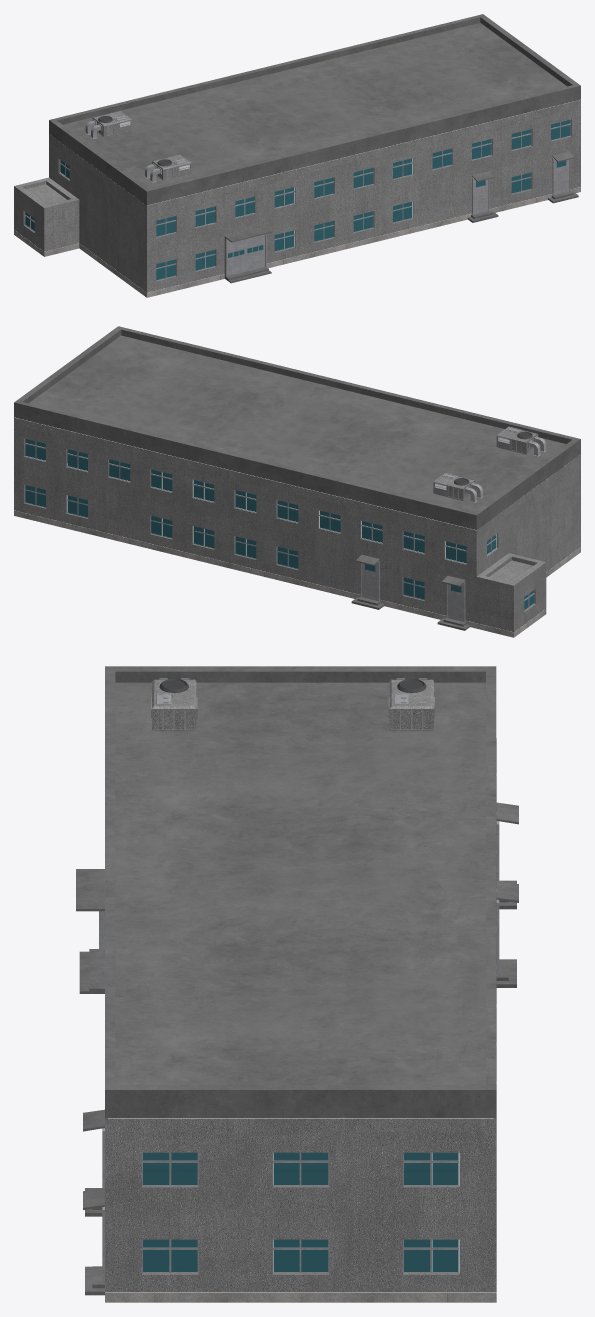
File: 消石灰制备间.glb
3 views of the same model, one above another, from view 1: azimuth 30°, elevation 25°; view 2: azimuth 150°, elevation 25°; view 3: azimuth 270°, elevation 25° (orthographic). The views are drawn at different scales.
Parts seen in each view (by area): view 1: 消石灰制备间05, 消石灰制备间00, 消石灰制备间04, 消石灰制备间06, 消石灰制备间02; view 2: 消石灰制备间05, 消石灰制备间00, 消石灰制备间04, 消石灰制备间06, 消石灰制备间02; view 3: 消石灰制备间05, 消石灰制备间00, 消石灰制备间04, 消石灰制备间06, 消石灰制备间02.
Boxes of the visible parts, x1,y1,x2,y2 form: 消石灰制备间05: [49, 14, 580, 283]; 消石灰制备间00: [14, 100, 580, 292]; 消石灰制备间04: [25, 120, 570, 280]; 消石灰制备间06: [24, 115, 570, 280]; 消石灰制备间02: [14, 187, 580, 297]; 消石灰制备间05: [14, 326, 580, 630]; 消石灰制备间00: [14, 417, 580, 632]; 消石灰制备间04: [25, 439, 533, 609]; 消石灰制备间06: [24, 422, 546, 622]; 消石灰制备间02: [14, 510, 580, 637]; 消石灰制备间05: [76, 666, 518, 1295]; 消石灰制备间00: [105, 679, 496, 1292]; 消石灰制备间04: [143, 1152, 458, 1271]; 消石灰制备间06: [99, 678, 499, 1283]; 消石灰制备间02: [105, 1292, 496, 1302].
Size of the model in its own units: 44.03 by 10.28 by 17.99.
Materials: 6 (6 with a texture image).
